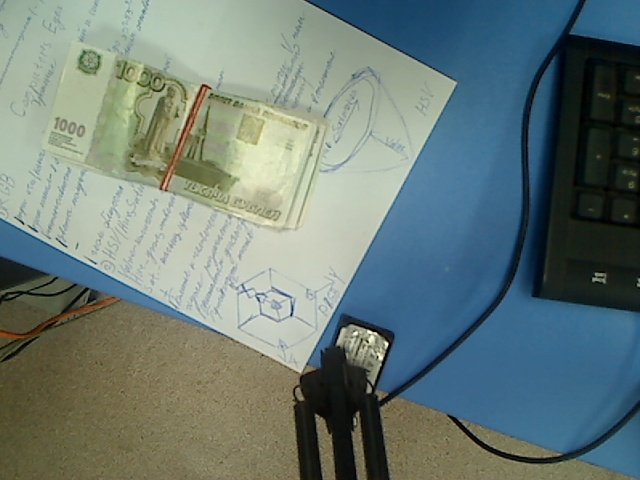banknotes: (39, 40, 330, 237)
